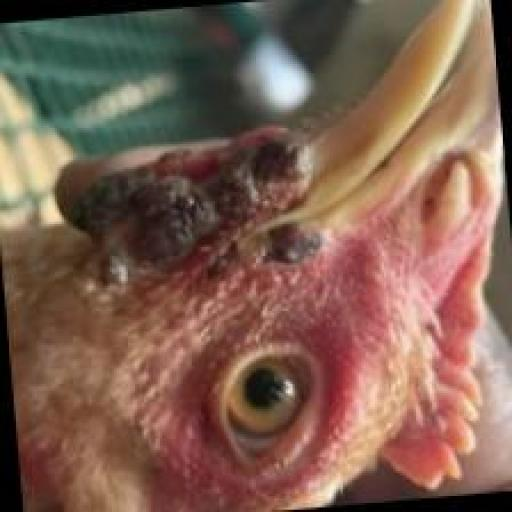disease: (43, 116, 344, 336)
